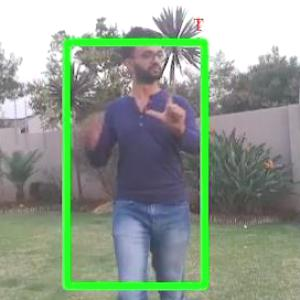land_hand: (142, 79, 196, 136)
